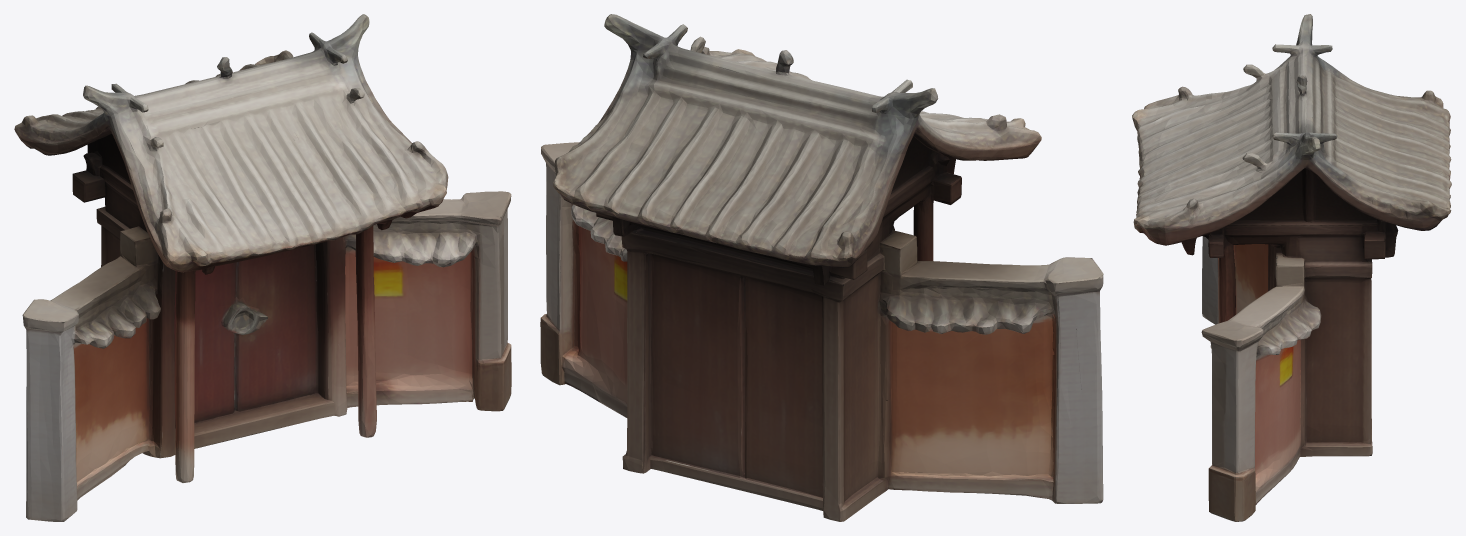
File: zhang-courtyard.glb
The picture shows the model from 3 angles, left to right: view 1: azimuth 30°, elevation 25°; view 2: azimuth 150°, elevation 25°; view 3: azimuth 270°, elevation 25°; orthographic projection. The views are drawn at different scales.
Visible parts, largest first — view 1: world; view 2: world; view 3: world.
Part boxes in pixels (x1=…): world: x1=14, y1=14, x2=511, y2=521; world: x1=540, y1=14, x2=1103, y2=521; world: x1=1132, y1=14, x2=1451, y2=521.
Size of the model in its own units: 1 by 0.731 by 0.6218.
1 material, 1 textured.
